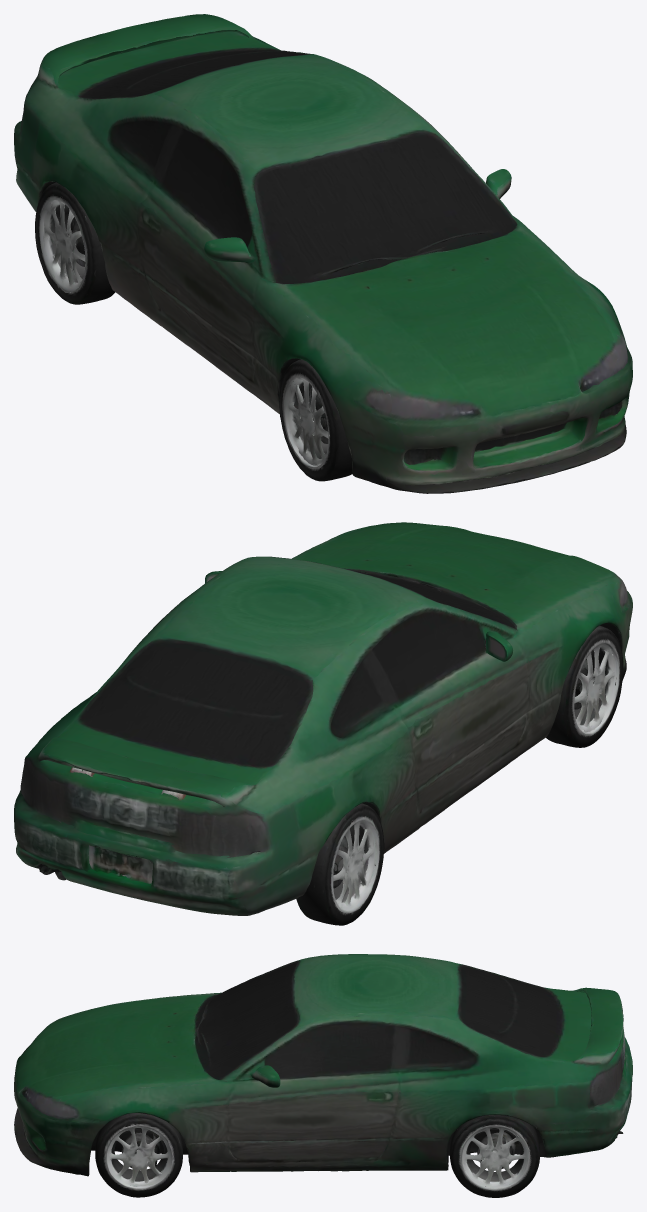
File: car_green.0.glb
3 renders of one model, top to bottom at view 1: azimuth 30°, elevation 25°; view 2: azimuth 150°, elevation 25°; view 3: azimuth 270°, elevation 25°, orthographic. The views are drawn at different scales.
Visible parts, largest first — view 1: geometry_0; view 2: geometry_0; view 3: geometry_0.
Part boxes in pixels (<box>): geometry_0: <box>14,14,632,493</box>; geometry_0: <box>14,522,632,925</box>; geometry_0: <box>14,954,632,1197</box>.
Size of the model in its own units: 0.4179 by 0.2954 by 1.
Materials: 1 (1 with a texture image).
